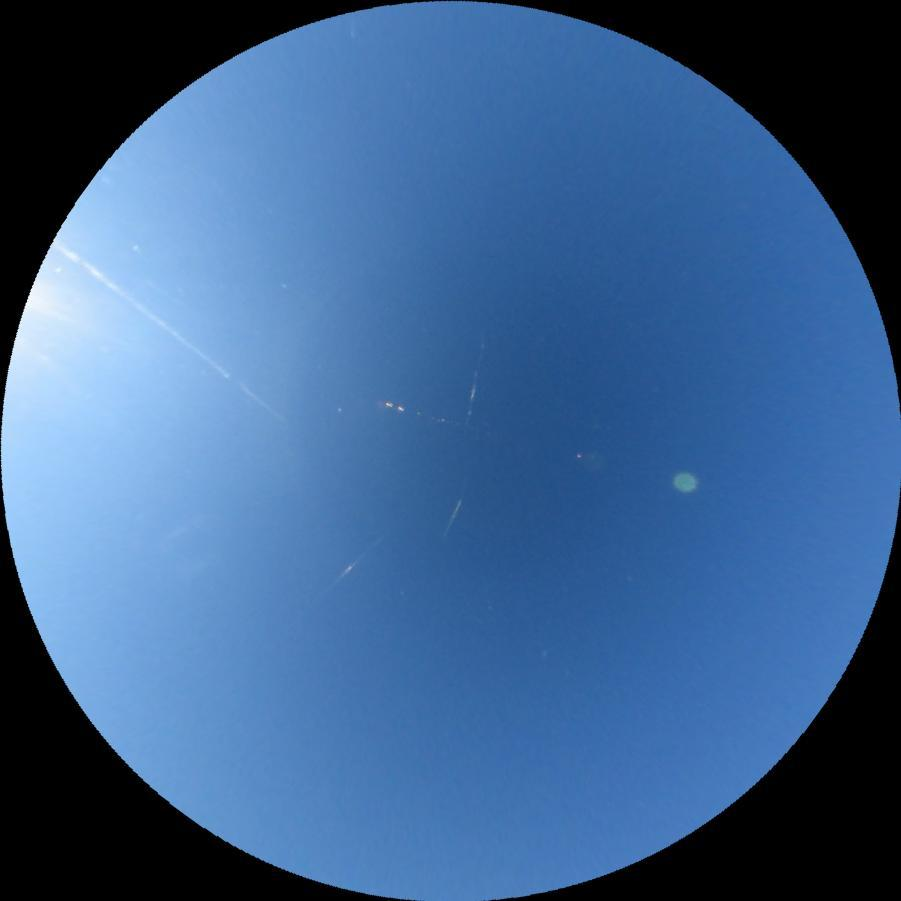parasite: (50, 237, 276, 415), (314, 534, 384, 600), (462, 331, 486, 431), (443, 498, 462, 533)
